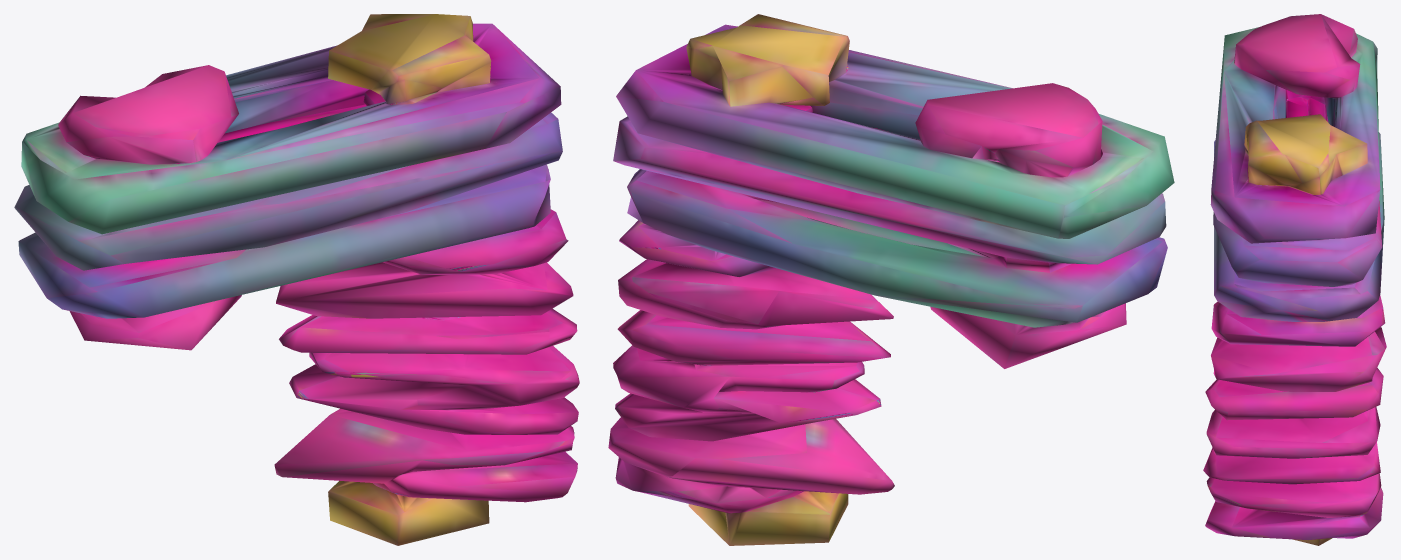
3 views of the same model, side by side, from view 1: azimuth 30°, elevation 25°; view 2: azimuth 150°, elevation 25°; view 3: azimuth 270°, elevation 25° (orthographic). The views are drawn at different scales.
Parts seen in each view (by area): view 1: material; view 2: material; view 3: material.
Part boxes in pixels (bbox=[...]): material: bbox=[14, 14, 579, 545]; material: bbox=[608, 14, 1174, 545]; material: bbox=[1203, 14, 1386, 545].
Size of the model in its own units: 1 by 0.8962 by 0.3876.
Materials: 1 (1 with a texture image).
